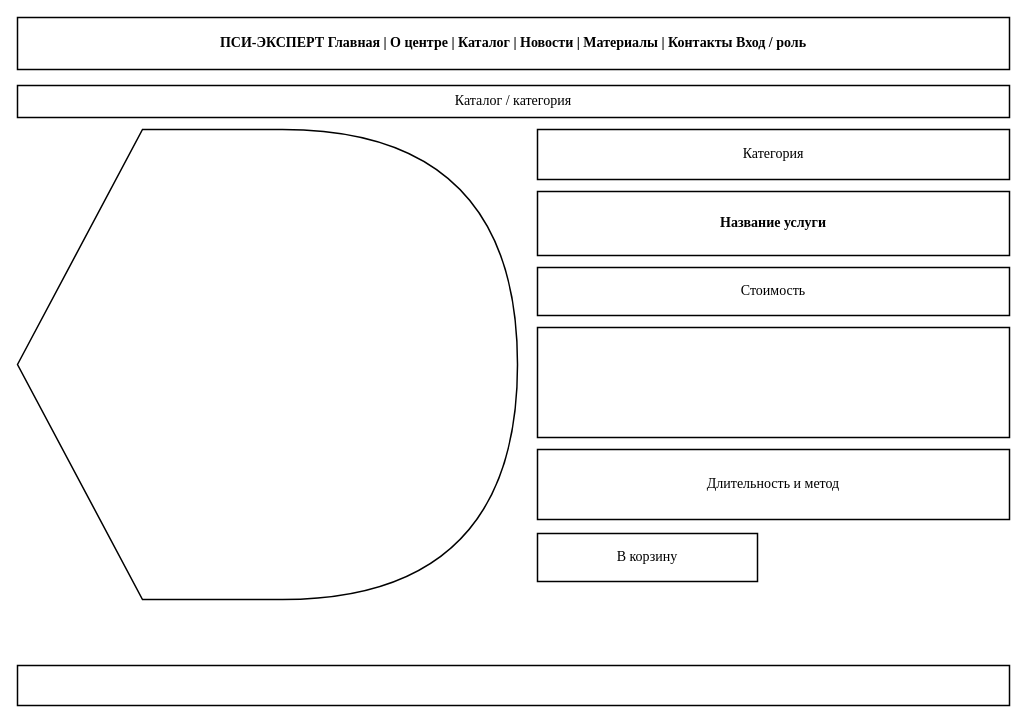
Some shapes in this 1028 by 724 pixel diagram are drawn without their labels. Each missing label, with the centre of its shape:
"Изображение услуги" belongs at (267,364).
"Описание запроса" belongs at (773,382).
"Пси-Эксперт · Псков · телефон · разработчик сайта" belongs at (513,685).
